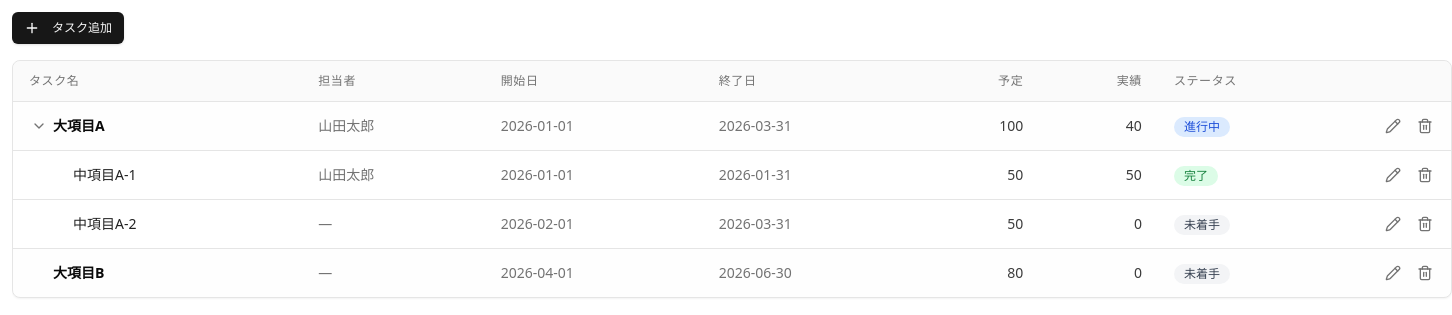
WbsTreeTable › 折りたたみ › 折りたたみ後に再クリックすると子タスクが再表示される
This screenshot has width=1452, height=315.
Click the button named "折りたたみ". click: (39, 126)
box: [29,116,49,136]
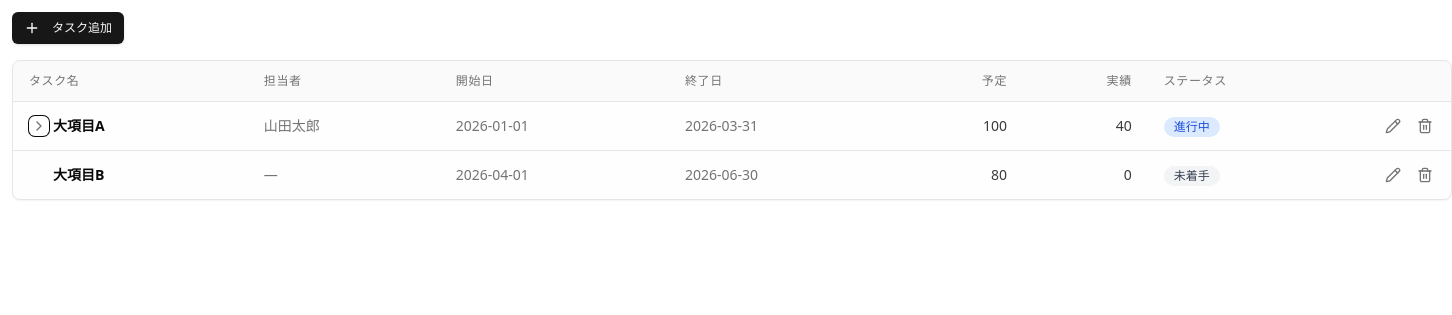
Expected: the text "中項目A-1" is gone
再展開（ボタンを再取得）
Click the button named "展開". click: (39, 126)
box: [29,116,49,136]
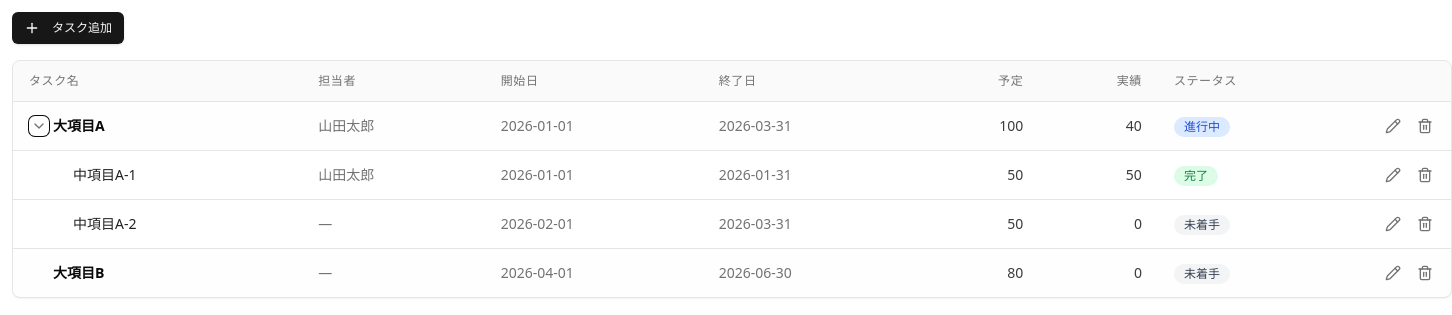
Expected: the text "中項目A-1" is shown, [73,165,136,185]
